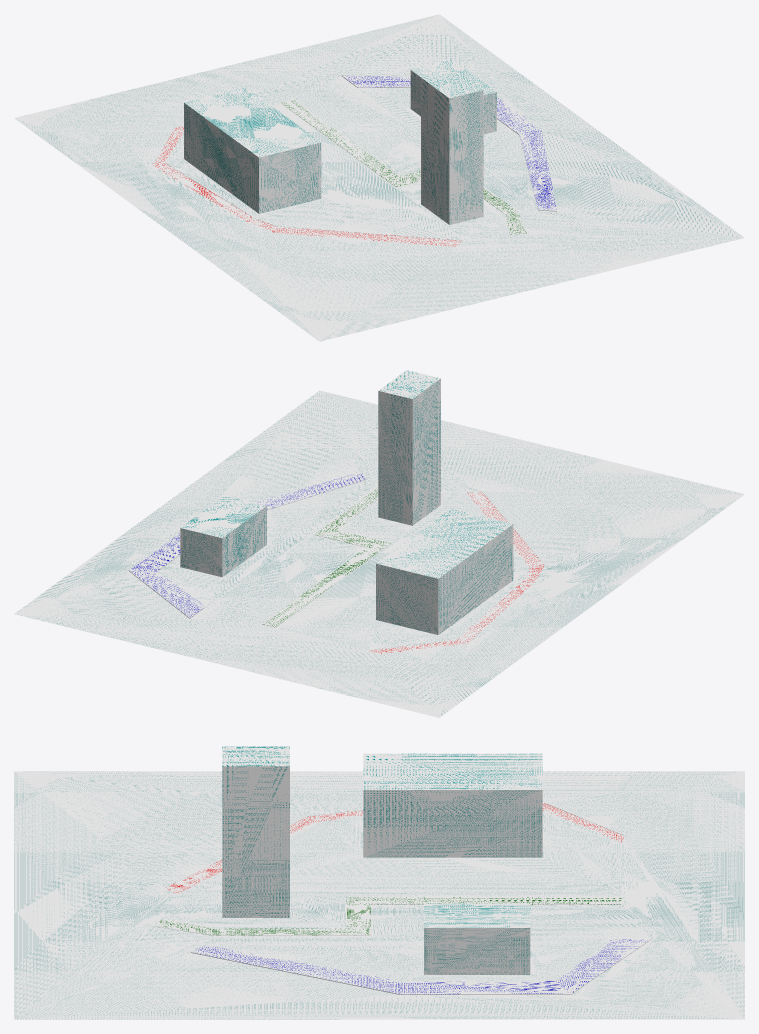
Rendered from map.dae.
The picture shows the model from 3 angles, top to bottom: view 1: azimuth 30°, elevation 25°; view 2: azimuth 150°, elevation 25°; view 3: azimuth 270°, elevation 25°; orthographic projection. The views are drawn at different scales.
Visible parts, largest first — view 1: SketchUp (×7); view 2: SketchUp (×7); view 3: SketchUp (×8).
Part boxes in pixels (bbox=[...]): SketchUp (×7): bbox=[14, 14, 744, 341]; SketchUp (×7): bbox=[14, 370, 744, 717]; SketchUp (×8): bbox=[14, 746, 744, 1019].
Bounding box in the file's own units: 204 × 254 × 58.24.
